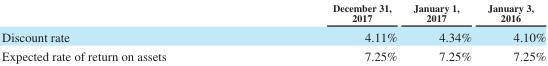table: (1, 1, 545, 62)
table column: (1, 1, 248, 62), (248, 1, 404, 62), (404, 1, 478, 62), (478, 1, 545, 62)
table column header: (1, 1, 545, 26)
table row: (1, 1, 545, 26), (1, 26, 545, 46), (1, 46, 545, 62)
